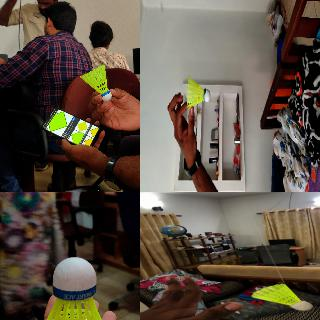shuttlecock: (22, 256, 118, 319), (250, 284, 312, 310), (80, 66, 110, 100), (186, 77, 210, 108)
